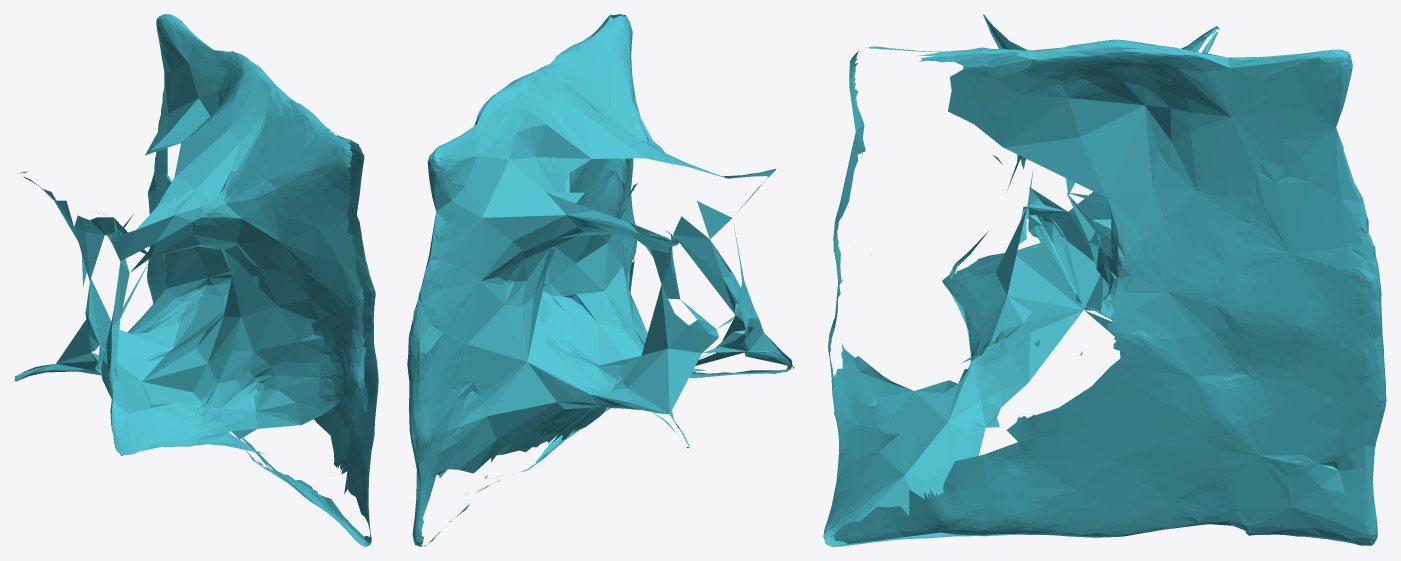
3 renders of one model, left to right at view 1: azimuth 30°, elevation 25°; view 2: azimuth 150°, elevation 25°; view 3: azimuth 270°, elevation 25°, orthographic. The views are drawn at different scales.
Visible parts, largest first — view 1: Renderer Node; view 2: Renderer Node; view 3: Renderer Node.
Boxes of the visible parts, bbox=[...] form: Renderer Node: bbox=[14, 14, 378, 546]; Renderer Node: bbox=[407, 14, 794, 546]; Renderer Node: bbox=[823, 14, 1386, 546].
Bounding box in the file's own units: 0.3682 × 0.6248 × 0.6293.
1 material, 1 textured.
